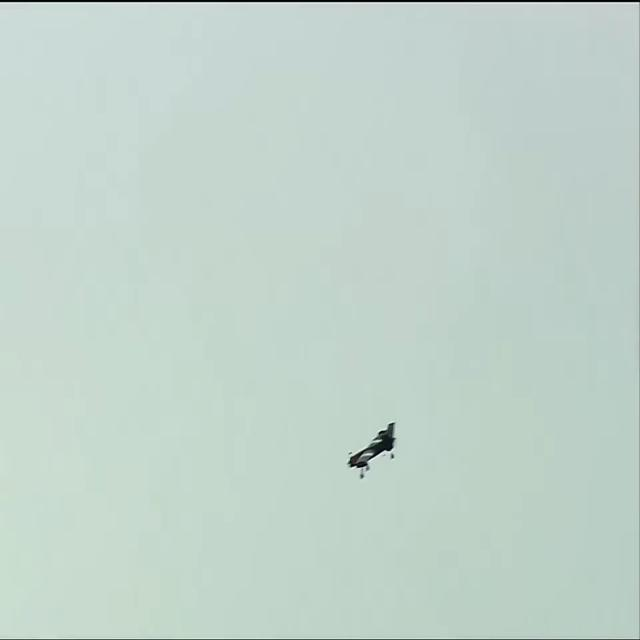iha: (346, 421, 397, 479)
